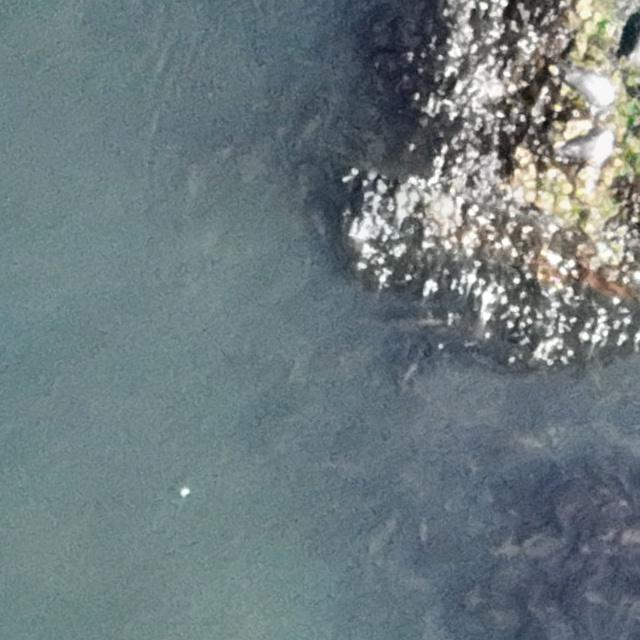umineko: (564, 65, 618, 106), (568, 132, 612, 162)
